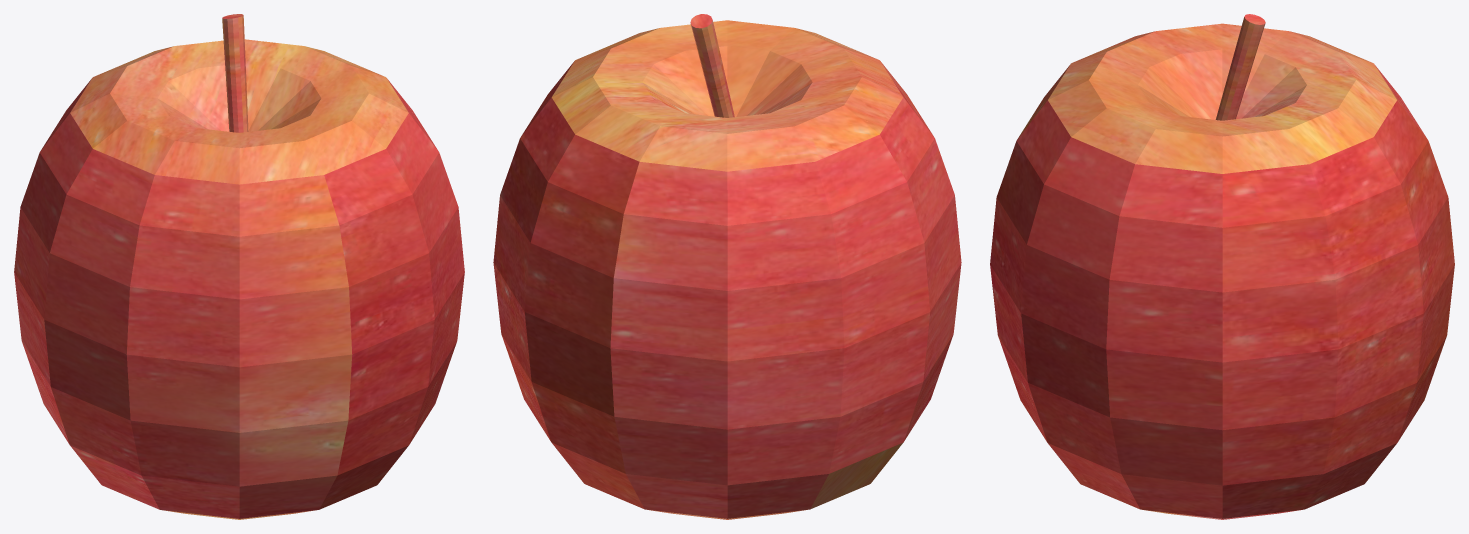
The model's file is apple.dae.
3 views of the same model, side by side, from view 1: azimuth 30°, elevation 25°; view 2: azimuth 150°, elevation 25°; view 3: azimuth 270°, elevation 25° (orthographic). The views are drawn at different scales.
Parts seen in each view (by area): view 1: Apple; view 2: Apple; view 3: Apple.
Boxes of the visible parts, box(x1,y1,x2,y2) form: Apple: box(14, 14, 464, 519); Apple: box(493, 14, 961, 519); Apple: box(990, 14, 1454, 519).
Bounding box in the file's own units: 3.72 × 3.72 × 4.07.
